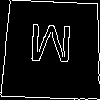M: (27, 24, 74, 72)
